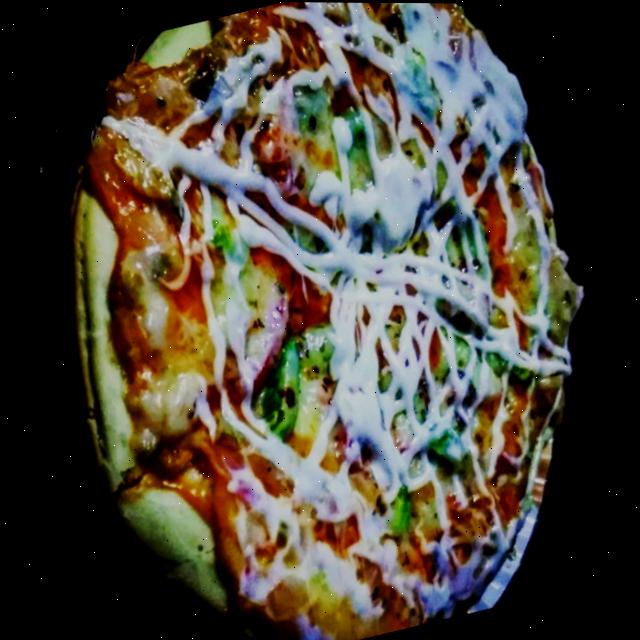pizza: (0, 0, 640, 640)
